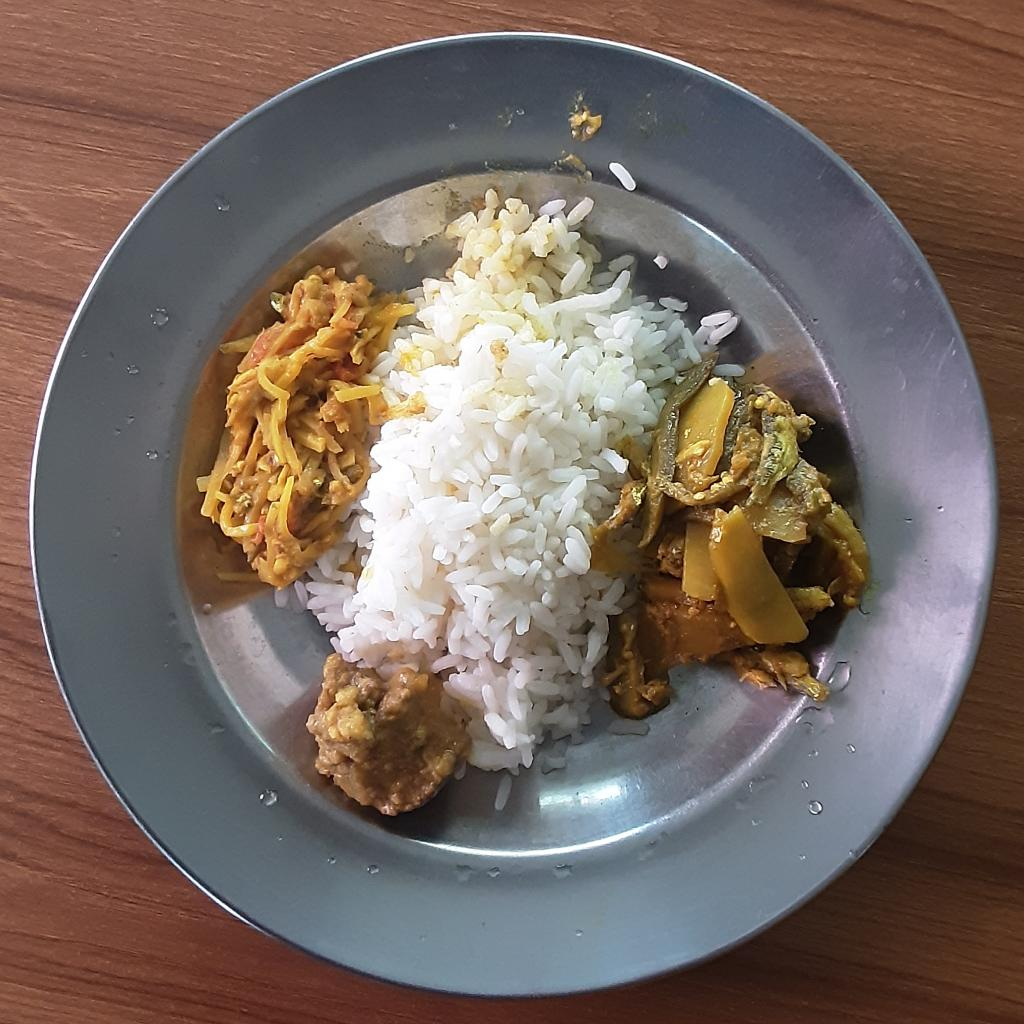banana: (308, 662, 468, 814)
fish: (732, 383, 803, 510)
khichuri: (589, 352, 871, 716)
potato: (195, 265, 432, 595), (682, 504, 808, 642), (676, 381, 735, 490)
rice: (285, 188, 736, 819)
tomato: (218, 273, 329, 374)
